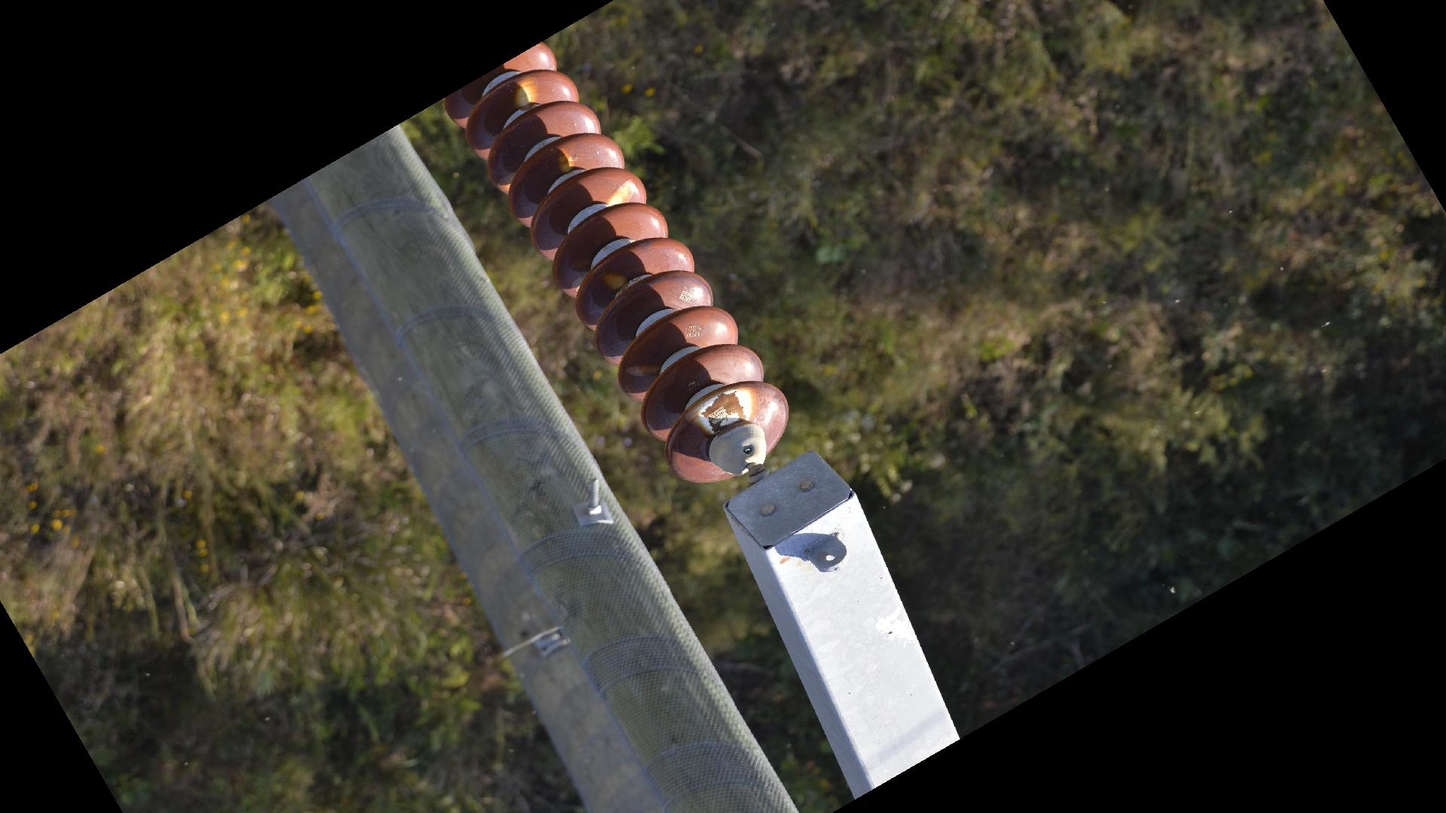insulator: (435, 37, 795, 491)
insulator_flashover: (698, 383, 756, 436), (604, 176, 636, 208), (513, 75, 541, 111), (555, 145, 578, 174), (624, 361, 661, 379), (596, 272, 629, 292)
